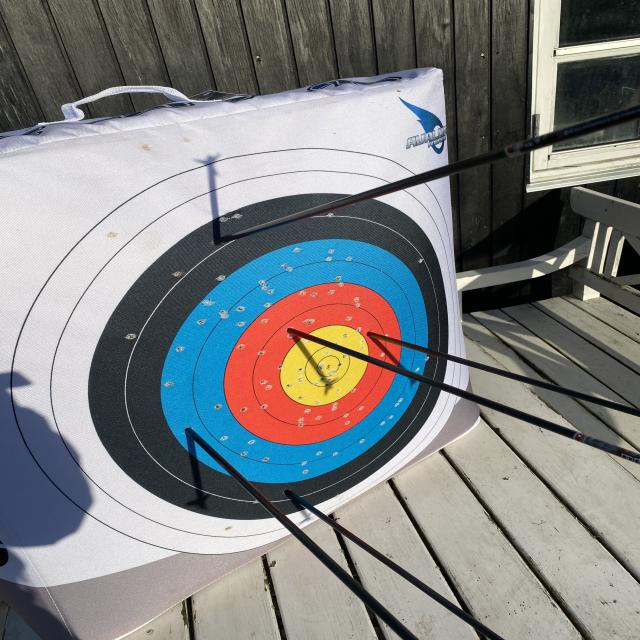Arrow_Black: (271, 472, 315, 514), (209, 221, 253, 256)
Arrow_Blue: (178, 402, 210, 461)
Arrow_Red: (351, 316, 388, 348), (280, 318, 316, 348)
